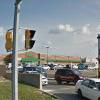Traffic light: (3, 23, 39, 56)
